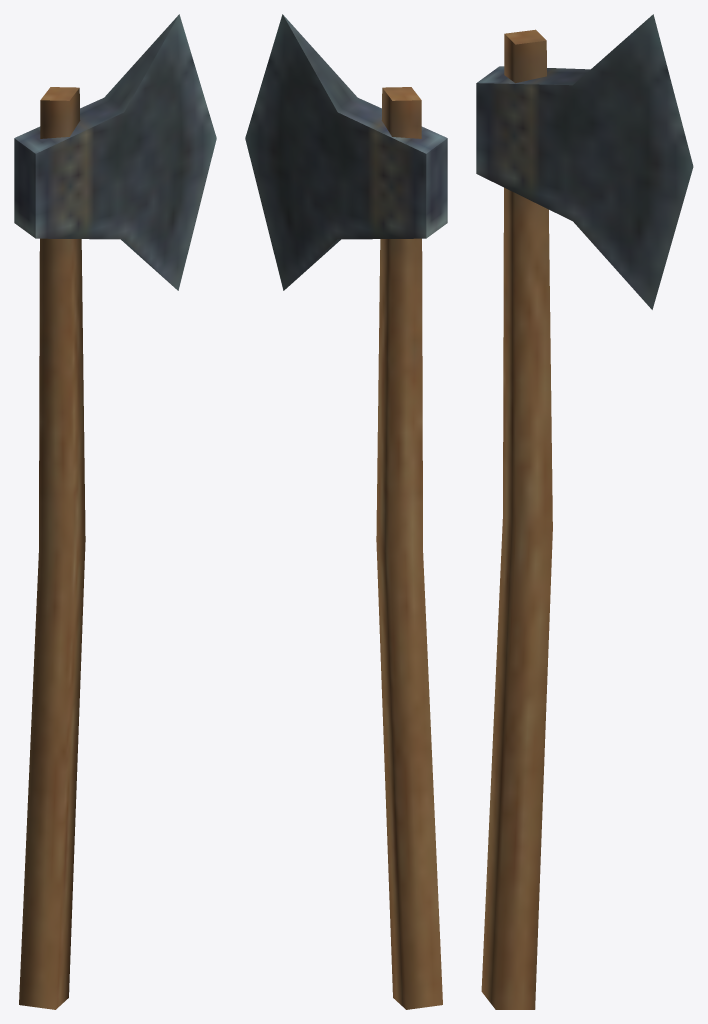
The model's file is Axe.fbx.
3 renders of one model, left to right at view 1: azimuth 30°, elevation 25°; view 2: azimuth 150°, elevation 25°; view 3: azimuth 330°, elevation 25°, orthographic. The views are drawn at different scales.
Parts seen in each view (by area): view 1: Axe; view 2: Axe; view 3: Axe.
Boxes of the visible parts, left/top/right/bottom form: Axe: left=14, top=14, right=216, bottom=1009; Axe: left=245, top=14, right=447, bottom=1009; Axe: left=476, top=14, right=693, bottom=1009.
Size of the model in its own units: 5.66 by 26.16 by 1.16.
